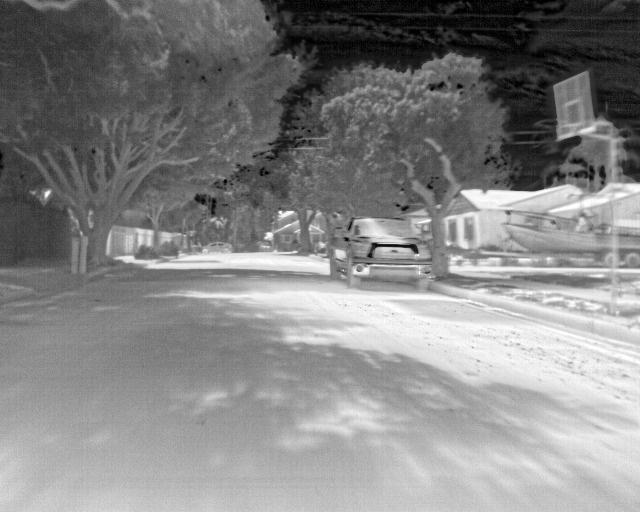car: (327, 216, 432, 292), (198, 239, 233, 255)
